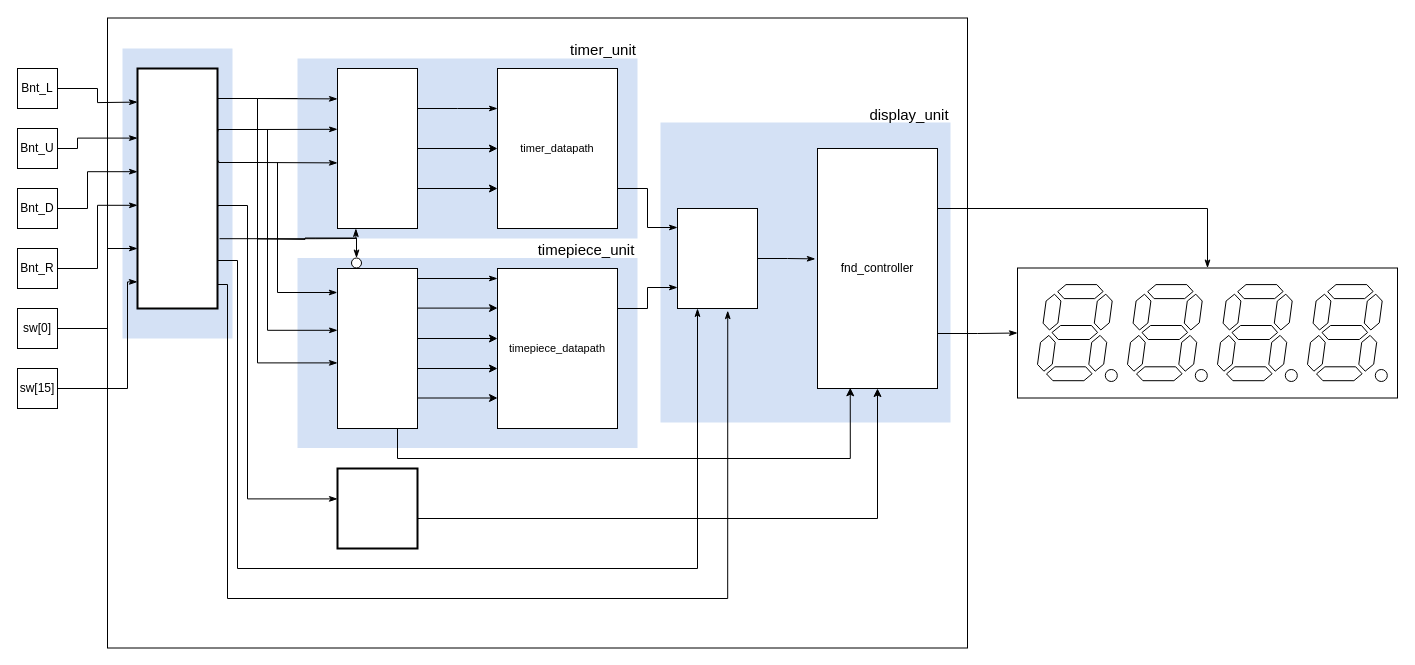
Image size: 1415x665. Some labels were removed from this diagram. Each missing label, with the box of its shape:
common _fsm: (336, 467, 418, 549)
display_select _logic: (676, 208, 758, 308)
input _c onditioning: (136, 67, 218, 309)
timepiece _fsm: (336, 268, 418, 428)
timer _fsm: (336, 68, 418, 228)
